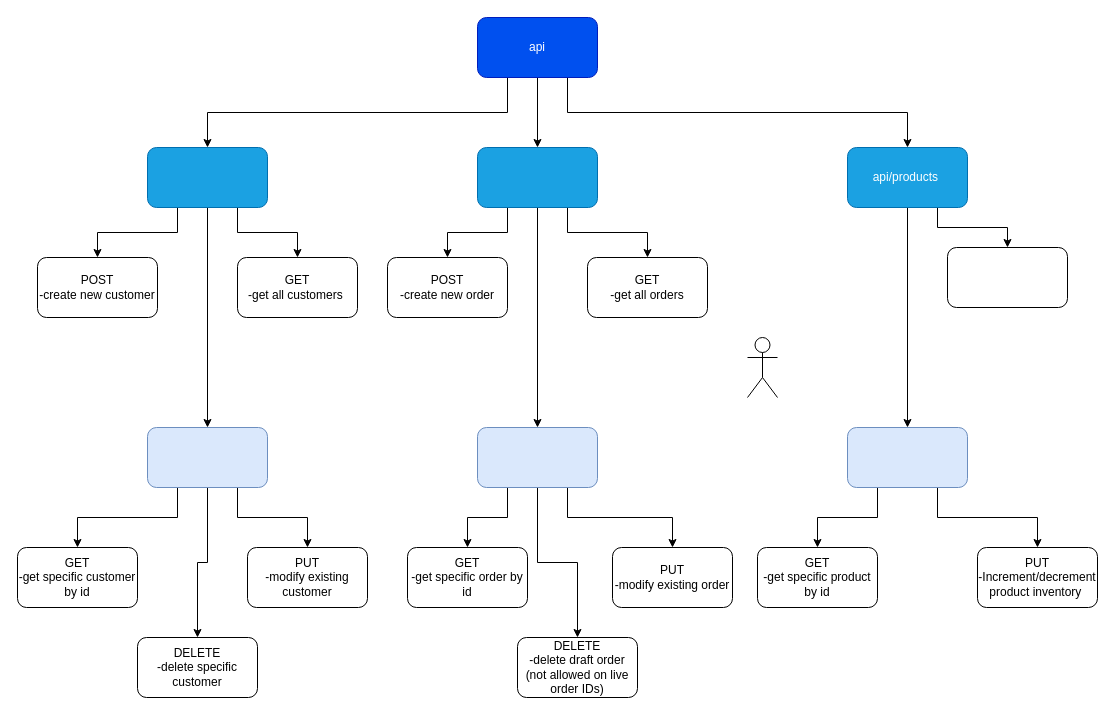
The diagram is 1115 pixels wide and 715 high, and some of its shapes have lost their labels. The box of each missing label's shape, as (x1, y1, x2, y2) in pixels:
Actor: (746, 336, 778, 398)
api/customers: (146, 146, 268, 208)
api/customers/:id: (146, 426, 268, 488)
api/orders: (476, 146, 598, 208)
api/orders/:id: (476, 426, 598, 488)
api/products/:id: (846, 426, 968, 488)
GET -get all products: (946, 246, 1068, 308)
